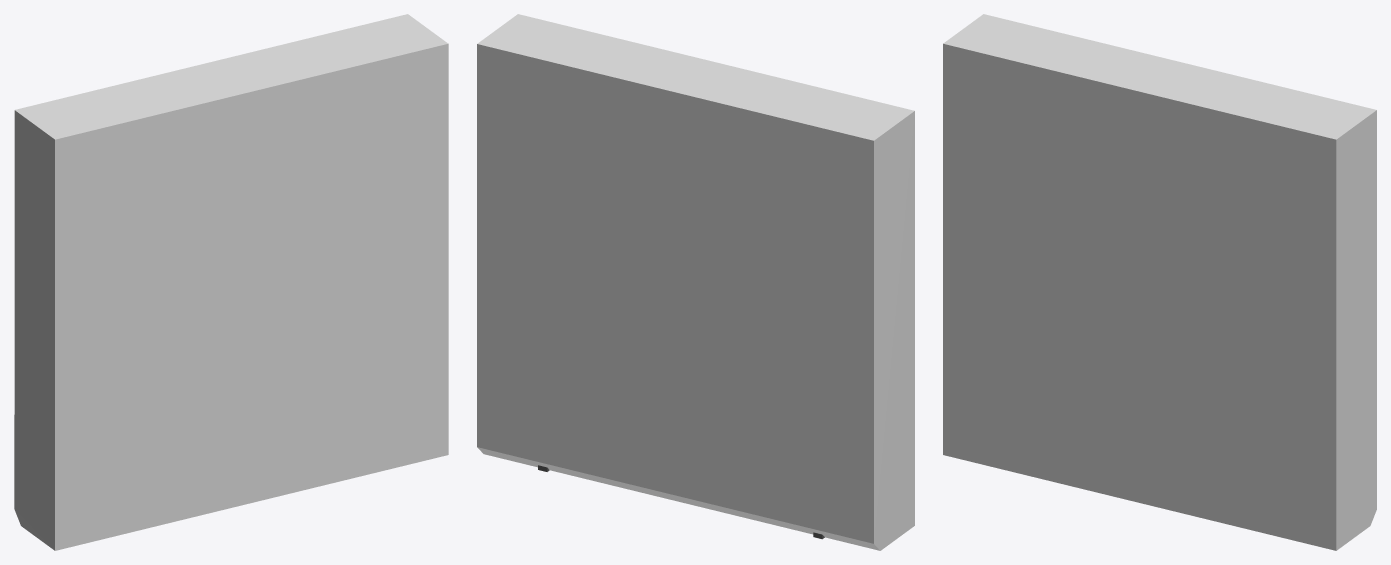
The model's file is SM_Bld_Wall_04_Alt.fbx.
The picture shows the model from 3 angles, left to right: view 1: azimuth 30°, elevation 25°; view 2: azimuth 150°, elevation 25°; view 3: azimuth 330°, elevation 25°; orthographic projection.
Visible parts, largest first — view 1: SM_Bld_Wall_04_Alt_ConvexHulls; view 2: SM_Bld_Wall_04_Alt_ConvexHulls; view 3: SM_Bld_Wall_04_Alt_ConvexHulls.
Part boxes in pixels (box(x1,y1,x2,y2)): SM_Bld_Wall_04_Alt_ConvexHulls: box(14, 14, 448, 550); SM_Bld_Wall_04_Alt_ConvexHulls: box(477, 14, 914, 550); SM_Bld_Wall_04_Alt_ConvexHulls: box(943, 14, 1376, 550).
Size of the model in its own units: 89.49 by 500 by 500.
Materials: 1 (1 with a texture image).
